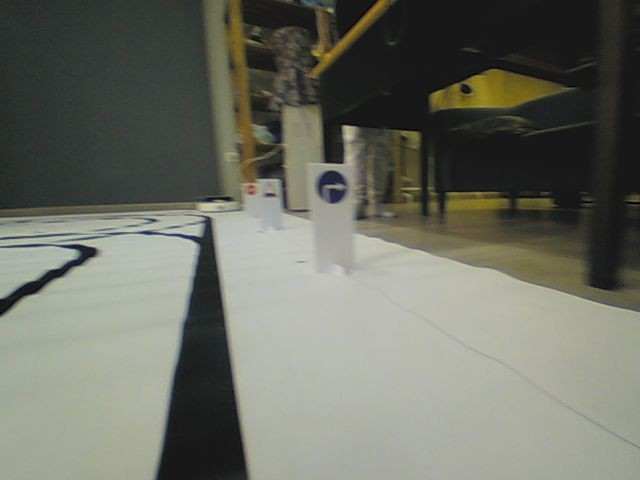Right: (315, 169, 348, 203)
